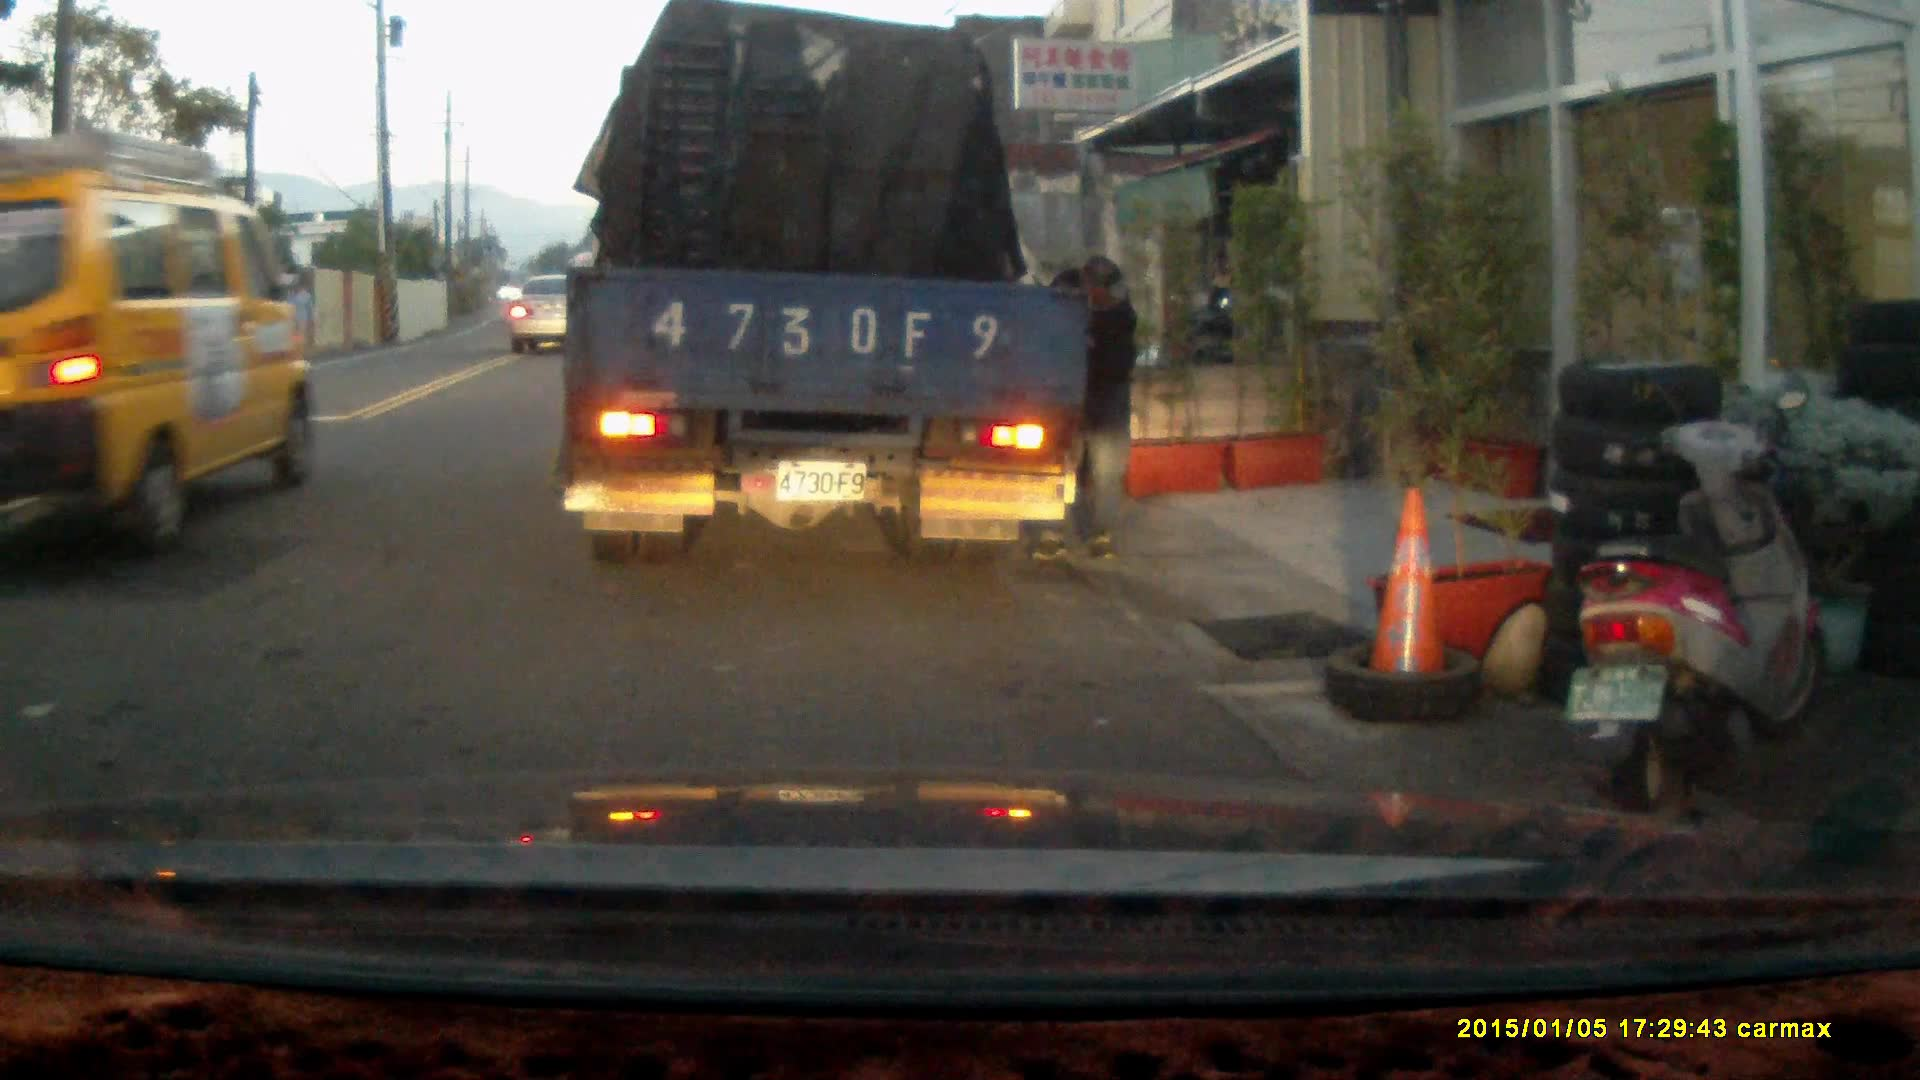pedestrian: (1016, 249, 1136, 563), (276, 274, 317, 369)
vehicle: (559, 25, 1075, 558), (1, 130, 326, 582), (513, 270, 587, 349)
